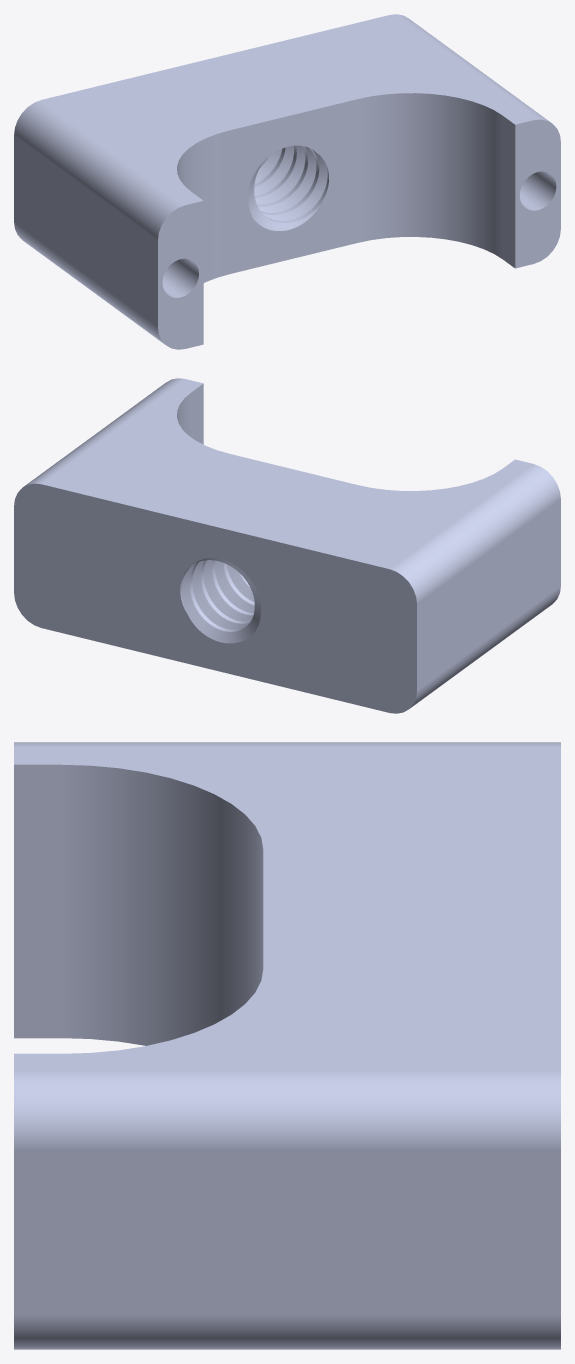
File: carepackagebot.gltf
3 views of the same model, one above another, from view 1: azimuth 30°, elevation 25°; view 2: azimuth 150°, elevation 25°; view 3: azimuth 270°, elevation 25° (orthographic). The views are drawn at different scales.
Visible parts, largest first — view 1: CarePackageBot; view 2: CarePackageBot; view 3: CarePackageBot.
Part boxes in pixels (bbox=[...]): CarePackageBot: bbox=[14, 14, 560, 349]; CarePackageBot: bbox=[14, 378, 560, 713]; CarePackageBot: bbox=[14, 742, 560, 1349].
Size of the model in its own units: 0.044 by 0.015 by 0.0272.
